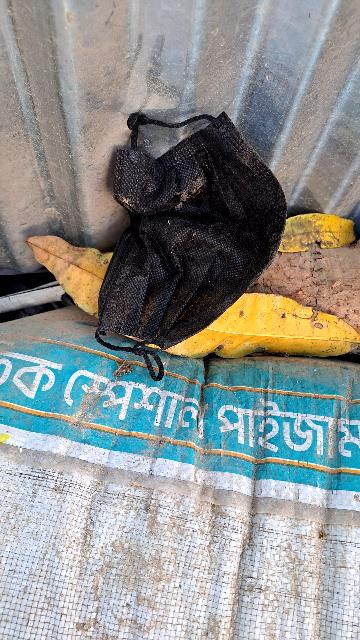mask: (62, 129, 299, 377)
